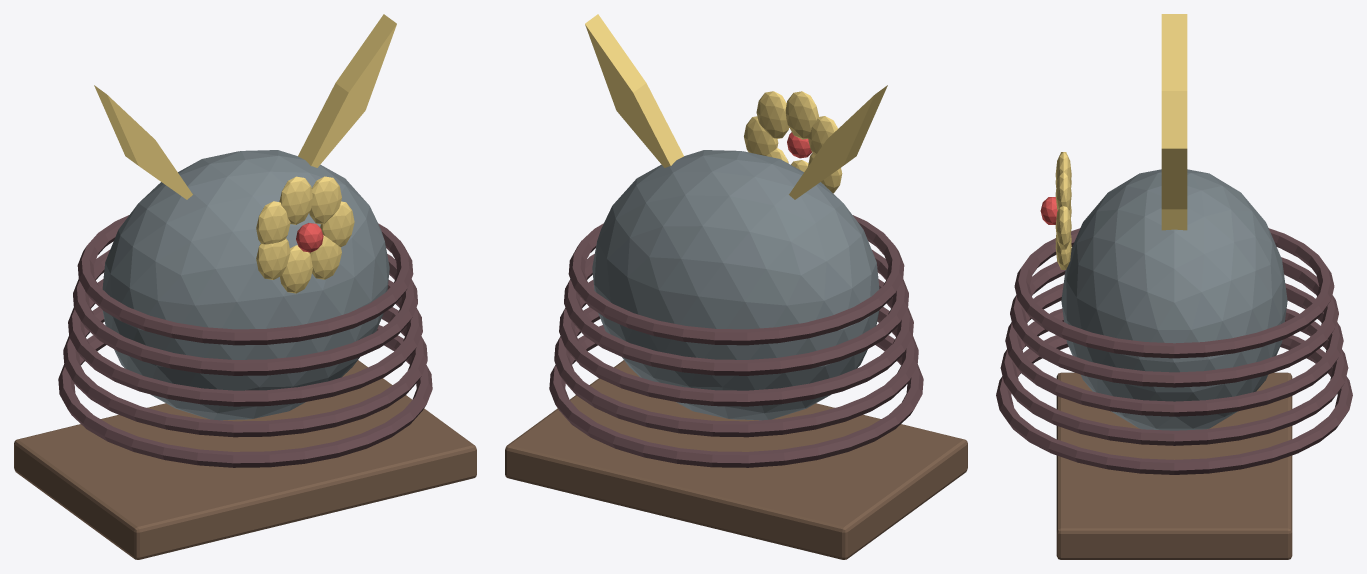
File: local_hyakumangoku_helmet.glb
3 renders of one model, left to right at view 1: azimuth 30°, elevation 25°; view 2: azimuth 150°, elevation 25°; view 3: azimuth 270°, elevation 25°, orthographic. The views are drawn at different scales.
Visible parts, largest first — view 1: Festival kabuto decorated helmet, Display sword stand, Helmet neckguard layers.004, Helmet neckguard layers, Helmet neckguard layers.001, Helmet neckguard layers.003, Helmet neckguard layers.002, Gold raised horn profile.001, Gold raised horn profile, Front chrysanthemum crest petal.002, Front chrysanthemum crest petal.001, Front chrysanthemum crest petal.003 (+5 smaller); view 2: Festival kabuto decorated helmet, Display sword stand, Helmet neckguard layers.004, Helmet neckguard layers, Helmet neckguard layers.001, Helmet neckguard layers.003, Helmet neckguard layers.002, Gold raised horn profile.001, Gold raised horn profile, Front chrysanthemum crest petal.002, Front chrysanthemum crest petal.001, Front chrysanthemum crest petal (+1 smaller); view 3: Festival kabuto decorated helmet, Display sword stand, Helmet neckguard layers.004, Helmet neckguard layers, Helmet neckguard layers.003, Helmet neckguard layers.002, Helmet neckguard layers.001, Gold raised horn profile, Gold raised horn profile.001, Front chrysanthemum crest petal, Front chrysanthemum crest petal.001.
Part boxes in pixels (left/top/right/bottom): Festival kabuto decorated helmet: left=102, top=150, right=389, bottom=420; Display sword stand: left=14, top=360, right=476, bottom=559; Helmet neckguard layers.004: left=77, top=215, right=413, bottom=345; Helmet neckguard layers: left=58, top=325, right=432, bottom=467; Helmet neckguard layers.001: left=63, top=307, right=427, bottom=437; Helmet neckguard layers.003: left=73, top=249, right=417, bottom=375; Helmet neckguard layers.002: left=68, top=279, right=422, bottom=406; Gold raised horn profile.001: left=298, top=14, right=396, bottom=167; Gold raised horn profile: left=94, top=85, right=192, bottom=199; Front chrysanthemum crest petal.002: left=279, top=176, right=312, bottom=224; Front chrysanthemum crest petal.001: left=309, top=176, right=341, bottom=224; Front chrysanthemum crest petal.003: left=256, top=201, right=290, bottom=244; Festival kabuto decorated helmet: left=592, top=150, right=879, bottom=420; Display sword stand: left=505, top=360, right=967, bottom=559; Helmet neckguard layers.004: left=568, top=215, right=904, bottom=345; Helmet neckguard layers: left=549, top=325, right=923, bottom=467; Helmet neckguard layers.001: left=554, top=307, right=918, bottom=437; Helmet neckguard layers.003: left=564, top=249, right=908, bottom=375; Helmet neckguard layers.002: left=559, top=279, right=913, bottom=406; Gold raised horn profile.001: left=585, top=14, right=683, bottom=167; Gold raised horn profile: left=789, top=85, right=887, bottom=199; Front chrysanthemum crest petal.002: left=785, top=91, right=818, bottom=139; Front chrysanthemum crest petal.001: left=756, top=91, right=789, bottom=138; Front chrysanthemum crest petal: left=744, top=116, right=778, bottom=155; Festival kabuto decorated helmet: left=1061, top=169, right=1287, bottom=430; Display sword stand: left=1056, top=372, right=1292, bottom=559; Helmet neckguard layers.004: left=1014, top=228, right=1334, bottom=358; Helmet neckguard layers: left=996, top=335, right=1352, bottom=474; Helmet neckguard layers.003: left=1010, top=257, right=1338, bottom=387; Helmet neckguard layers.002: left=1005, top=283, right=1343, bottom=416; Helmet neckguard layers.001: left=1000, top=308, right=1348, bottom=445; Gold raised horn profile: left=1161, top=14, right=1187, bottom=148; Gold raised horn profile.001: left=1161, top=148, right=1187, bottom=230; Front chrysanthemum crest petal: left=1055, top=206, right=1071, bottom=249; Front chrysanthemum crest petal.001: left=1055, top=171, right=1071, bottom=210.
Bounding box in the file's own units: 1.66 × 1.95 × 1.57.
